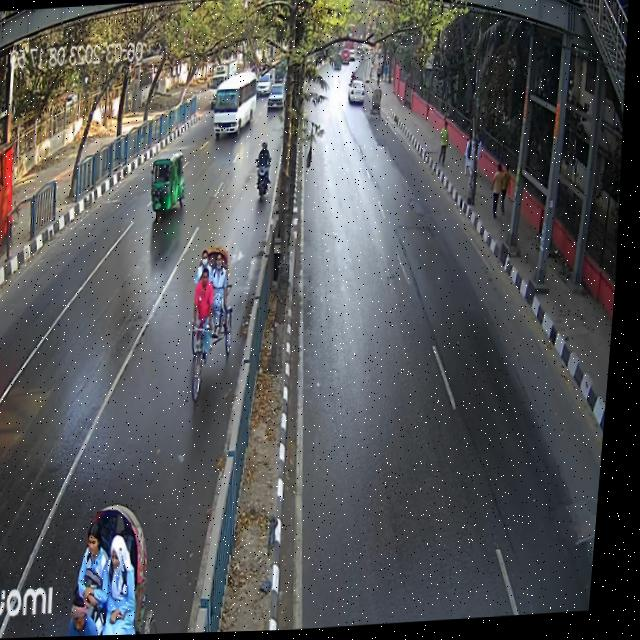cng: (148, 141, 192, 219)
rikshaw: (69, 497, 177, 637), (188, 245, 246, 391), (368, 89, 386, 134)
